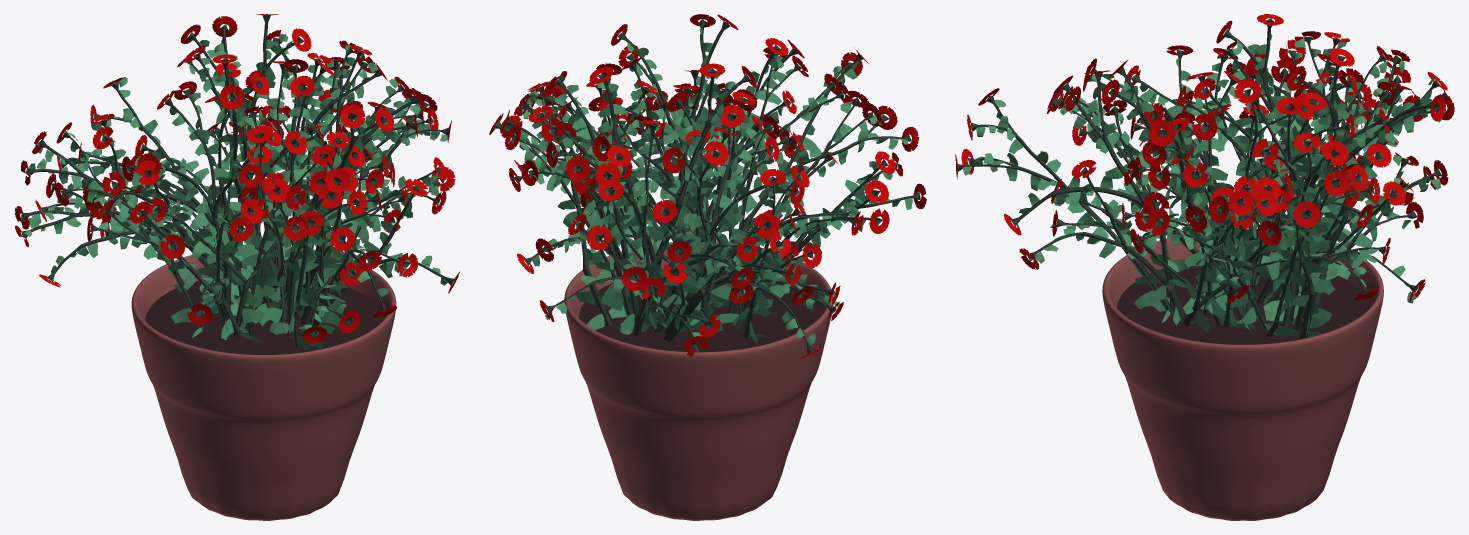
Rendered from FlowerPlant01.fbx.
The picture shows the model from 3 angles, left to right: view 1: azimuth 30°, elevation 25°; view 2: azimuth 150°, elevation 25°; view 3: azimuth 270°, elevation 25°; orthographic projection. The views are drawn at different scales.
Visible parts, largest first — view 1: small_pot, daisyLarge1Leaf, daisyLarge1Main, daisyLarge1Flower, dirt1; view 2: small_pot, daisyLarge1Leaf, daisyLarge1Main, daisyLarge1Flower, dirt1; view 3: small_pot, daisyLarge1Leaf, daisyLarge1Main, daisyLarge1Flower, dirt1.
Boxes of the visible parts, x1,y1,x2,y2 form: small_pot: (131,255,396,520); daisyLarge1Leaf: (20,29,449,349); daisyLarge1Main: (21,15,454,347); daisyLarge1Flower: (14,14,459,343); dirt1: (145,276,382,354); small_pot: (564,242,833,520); daisyLarge1Leaf: (494,28,912,352); daisyLarge1Main: (495,19,920,353); daisyLarge1Flower: (489,14,926,358); dirt1: (579,270,819,352); small_pot: (1102,228,1383,520); daisyLarge1Leaf: (962,34,1442,337); daisyLarge1Main: (957,18,1447,339); daisyLarge1Flower: (955,14,1454,302); dirt1: (1116,259,1369,344).
Size of the model in its own units: 2.53 by 2.78 by 2.72.
